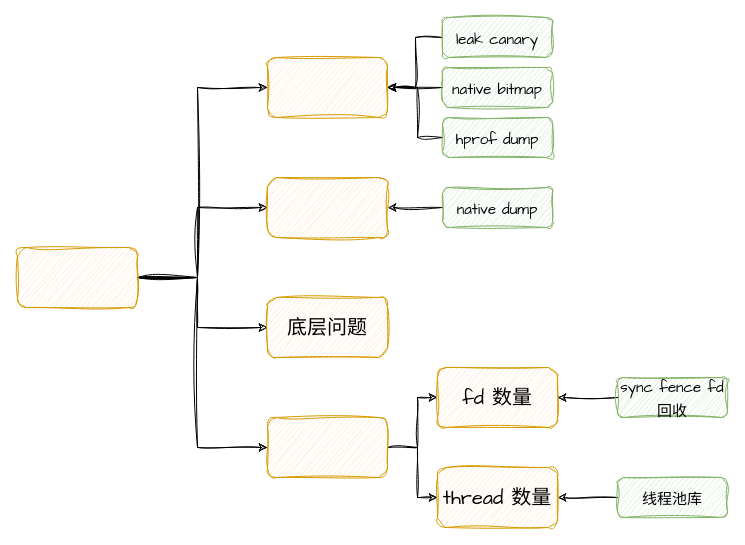
Some shapes in this 745 by 545 pixel diagram are drawn without their labels. Here are the shapes that lost their labels. From the top down, the box of each, then its label:
(266, 56, 388, 118): Java Heap OOM
(266, 176, 388, 238): 虚拟内存 OOM
(16, 246, 138, 308): Android OOM
(266, 416, 388, 478): 特殊限制
